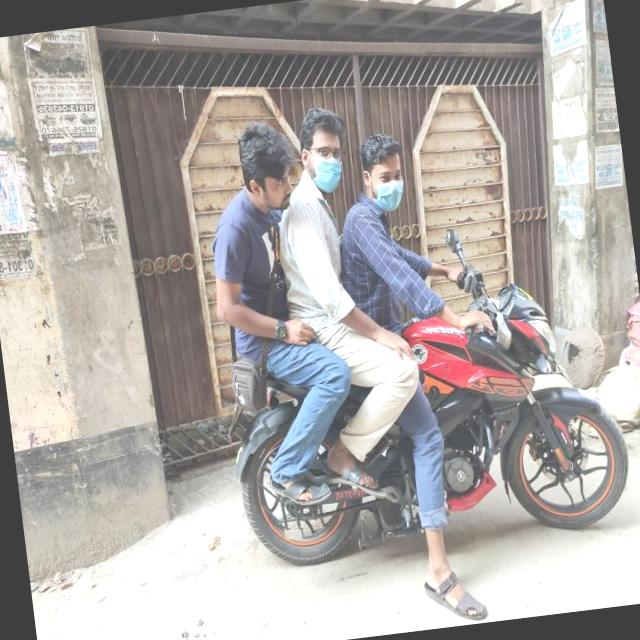motorcycle: (207, 249, 640, 578)
person: (191, 118, 324, 408), (321, 130, 453, 397), (258, 104, 380, 376)
